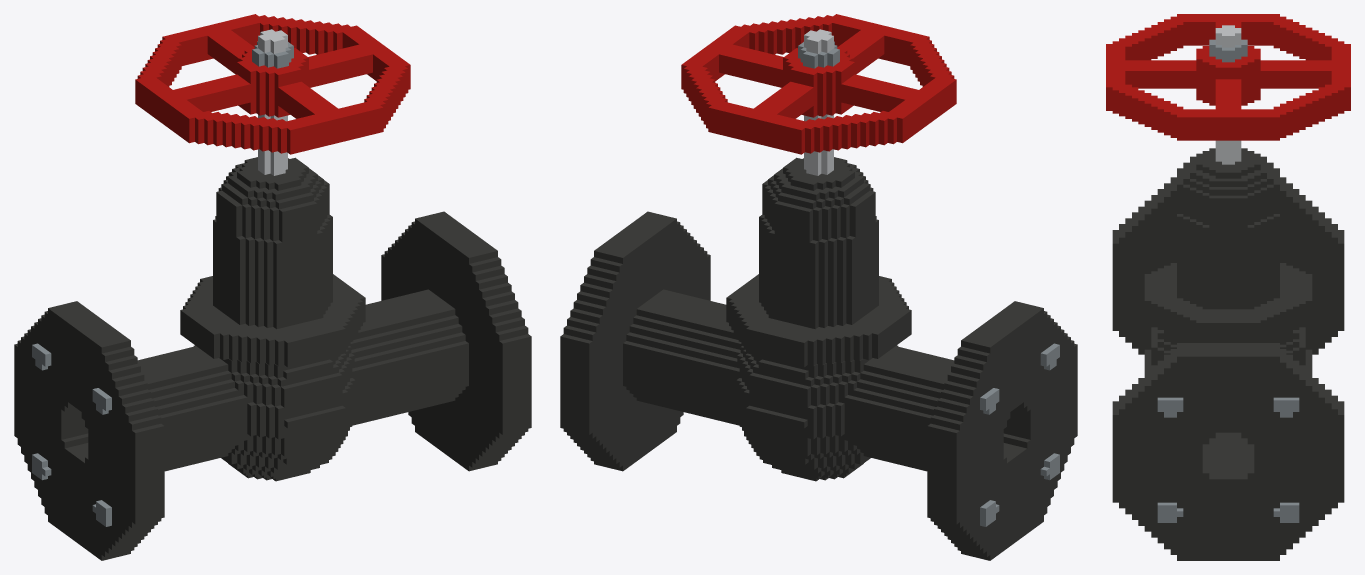
Rendered from hd_valve.glb.
3 views of the same model, side by side, from view 1: azimuth 30°, elevation 25°; view 2: azimuth 150°, elevation 25°; view 3: azimuth 270°, elevation 25° (orthographic). The views are drawn at different scales.
Visible parts, largest first — view 1: hd_valve:compound; view 2: hd_valve:compound; view 3: hd_valve:compound.
Boxes of the visible parts, box(x1,y1,x2,y2) form: hd_valve:compound: box(14, 14, 531, 560); hd_valve:compound: box(560, 14, 1077, 560); hd_valve:compound: box(1106, 14, 1350, 560).
Size of the model in its own units: 0.28 by 0.3 by 0.152.
